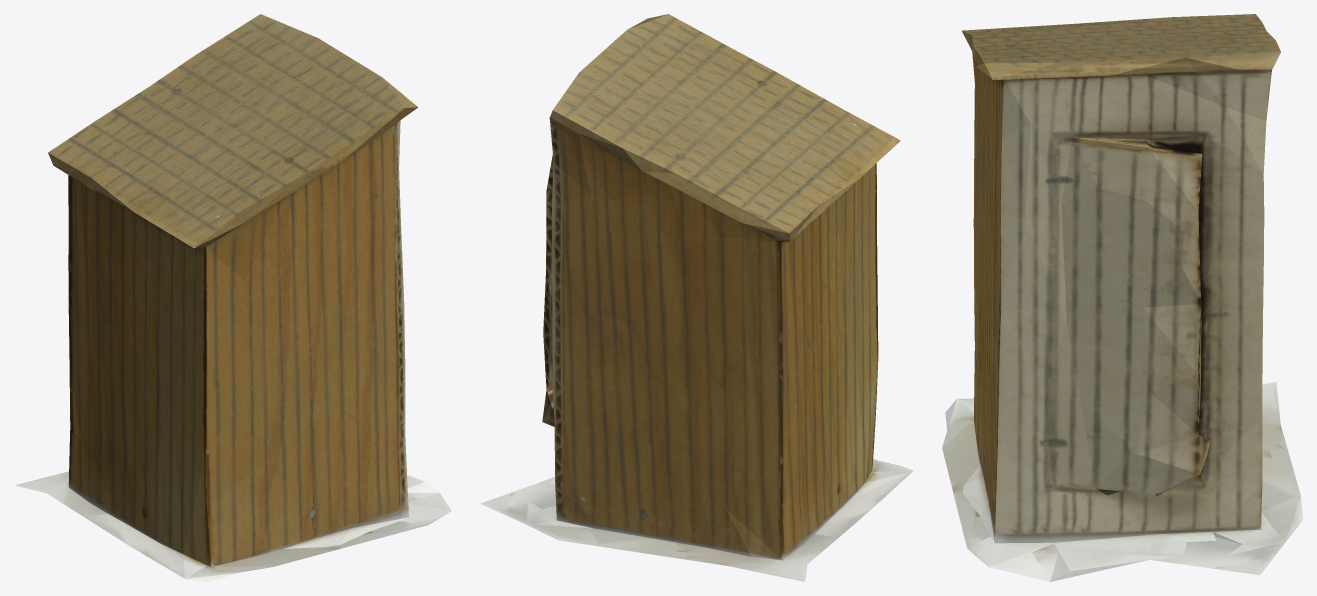
The model's file is mdl_bat_ete_65.fbx.
3 renders of one model, left to right at view 1: azimuth 30°, elevation 25°; view 2: azimuth 150°, elevation 25°; view 3: azimuth 270°, elevation 25°, orthographic. The views are drawn at different scales.
Visible parts, largest first — view 1: mdl_bat_ete_65; view 2: mdl_bat_ete_65; view 3: mdl_bat_ete_65.
Part boxes in pixels (left/top/right/bottom): mdl_bat_ete_65: left=15, top=14, right=451, bottom=581; mdl_bat_ete_65: left=480, top=14, right=913, bottom=581; mdl_bat_ete_65: left=942, top=14, right=1302, bottom=581.
Size of the model in its own units: 3.54 by 4.44 by 2.93.
Materials: 1 (1 with a texture image).
